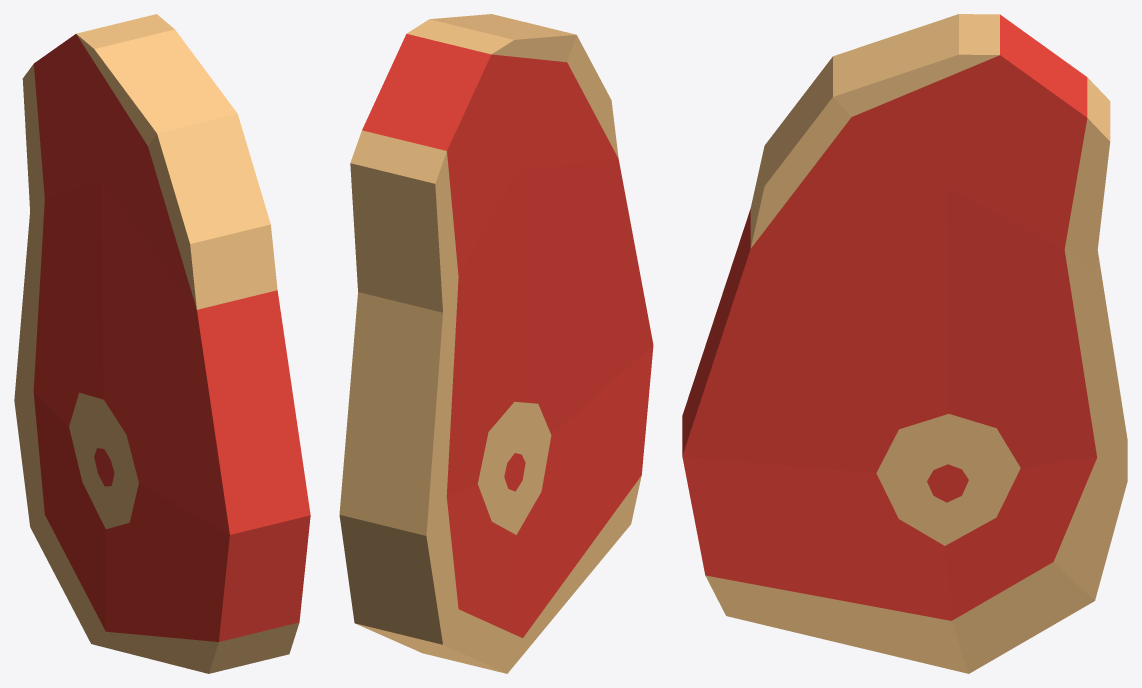
The model's file is Steak_01.obj.
3 views of the same model, side by side, from view 1: azimuth 30°, elevation 25°; view 2: azimuth 150°, elevation 25°; view 3: azimuth 270°, elevation 25° (orthographic). The views are drawn at different scales.
Parts seen in each view (by area): view 1: Cube_Cube.024; view 2: Cube_Cube.024; view 3: Cube_Cube.024.
Boxes of the visible parts, bbox=[...] form: Cube_Cube.024: bbox=[14, 14, 310, 673]; Cube_Cube.024: bbox=[339, 14, 653, 673]; Cube_Cube.024: bbox=[682, 14, 1127, 673].
Bounding box in the file's own units: 1.5 × 9.98 × 6.51.
